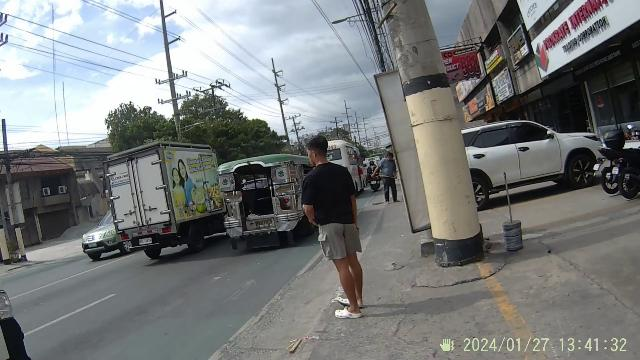utility_post: (378, 1, 484, 258), (152, 1, 188, 137)
